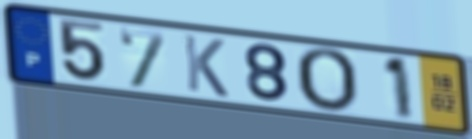1: (381, 56, 416, 121)
5: (54, 16, 108, 84)
7: (117, 24, 169, 91)
8: (242, 42, 292, 104)
K: (180, 32, 231, 100)
O: (292, 46, 360, 116)
